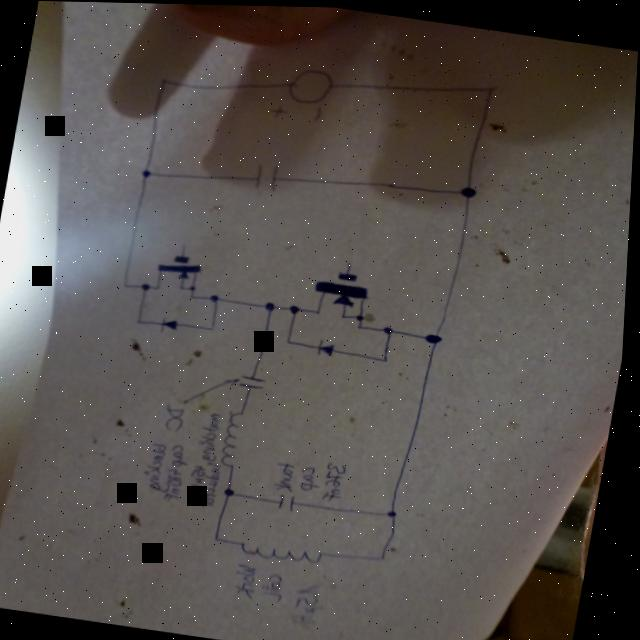capacitor: (249, 159, 283, 192), (236, 370, 269, 390), (279, 489, 302, 512)
diode: (316, 337, 339, 356), (161, 316, 181, 330)
inductor: (243, 536, 330, 566), (221, 406, 249, 466)
junction: (425, 329, 447, 345), (457, 182, 478, 197), (263, 298, 279, 311), (387, 506, 403, 517), (224, 485, 241, 495), (139, 165, 152, 178), (483, 79, 497, 91), (382, 322, 396, 333), (381, 550, 394, 560), (289, 302, 302, 311), (381, 352, 392, 362), (210, 291, 221, 301), (156, 75, 168, 84), (284, 335, 295, 344), (141, 281, 152, 290), (215, 533, 224, 541), (122, 280, 132, 287), (208, 323, 218, 330), (135, 316, 144, 323)
source: (284, 63, 336, 106)
terminal: (179, 240, 190, 248), (345, 258, 355, 265)
text: (143, 439, 180, 492), (293, 578, 331, 629), (195, 408, 229, 462), (166, 441, 195, 502), (322, 457, 352, 500), (234, 560, 266, 598), (202, 459, 226, 508), (275, 457, 302, 491), (264, 569, 290, 601), (301, 461, 328, 491), (163, 400, 189, 431), (190, 462, 212, 491)
transistor: (308, 264, 375, 330), (152, 250, 205, 298)
